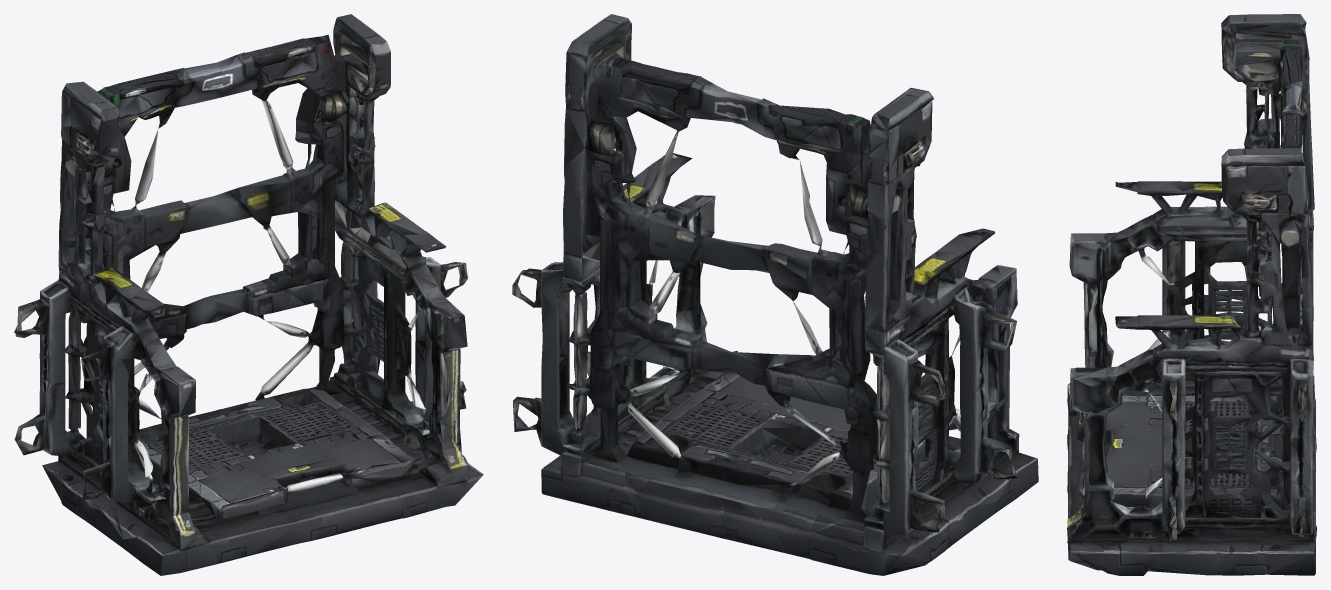
The model's file is hangar_launch_pad.glb.
The picture shows the model from 3 angles, left to right: view 1: azimuth 30°, elevation 25°; view 2: azimuth 150°, elevation 25°; view 3: azimuth 270°, elevation 25°; orthographic projection. The views are drawn at different scales.
Parts seen in each view (by area): view 1: hangar_launch_pad; view 2: hangar_launch_pad; view 3: hangar_launch_pad.
Part boxes in pixels (x1,y1,x2,y2): hangar_launch_pad: [14, 14, 483, 575]; hangar_launch_pad: [512, 14, 1038, 575]; hangar_launch_pad: [1067, 14, 1316, 575].
Size of the model in its own units: 0.9786 by 0.9788 by 0.5384.
Materials: 1 (1 with a texture image).
